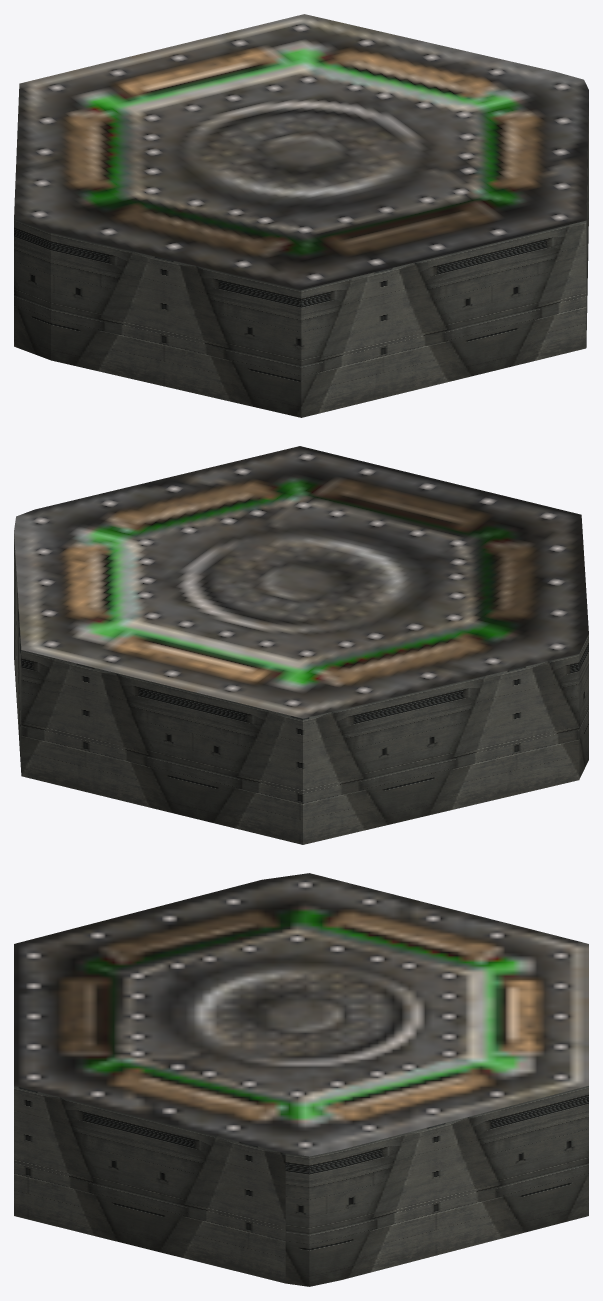
The model's file is gun_emplacement_heavy_a_01_grn.glb.
3 views of the same model, one above another, from view 1: azimuth 30°, elevation 25°; view 2: azimuth 150°, elevation 25°; view 3: azimuth 270°, elevation 25° (orthographic). The views are drawn at different scales.
Visible parts, largest first — view 1: buildings/saxarba/gun_emplacement/gun_emplacement_heavy_a_01; view 2: buildings/saxarba/gun_emplacement/gun_emplacement_heavy_a_01; view 3: buildings/saxarba/gun_emplacement/gun_emplacement_heavy_a_01.
Part boxes in pixels (<box>): buildings/saxarba/gun_emplacement/gun_emplacement_heavy_a_01: <box>14,14,588,417</box>; buildings/saxarba/gun_emplacement/gun_emplacement_heavy_a_01: <box>14,446,588,844</box>; buildings/saxarba/gun_emplacement/gun_emplacement_heavy_a_01: <box>14,873,588,1286</box>.
Size of the model in its own units: 84 by 18 by 72.
